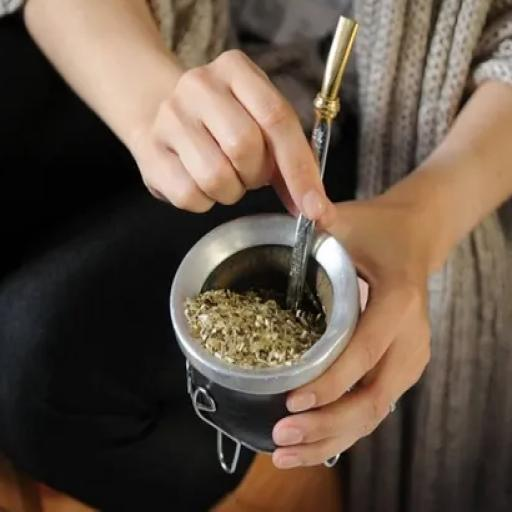mate: (172, 197, 379, 462)
